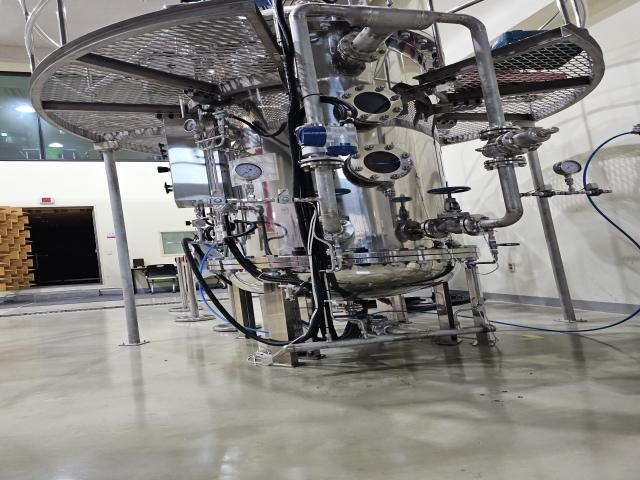Flange: (337, 84, 403, 125), (348, 144, 412, 183)
Flush Ring: (338, 31, 388, 63), (314, 217, 354, 242), (298, 156, 345, 172), (458, 214, 492, 236), (478, 126, 522, 141), (484, 156, 526, 171), (422, 218, 452, 239), (374, 320, 406, 338)
GasRegulator: (184, 110, 253, 155)
Nuts: (273, 195, 301, 205), (205, 196, 232, 206), (533, 190, 559, 198), (582, 189, 610, 196)
Piston Valve: (428, 186, 472, 219), (311, 188, 352, 220)
Pressure Gage: (231, 162, 265, 200), (553, 160, 583, 192)
